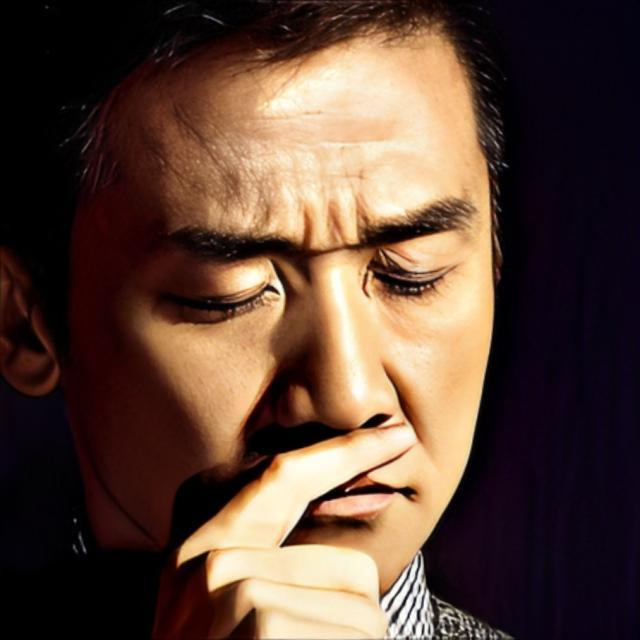anger: (66, 49, 502, 614)
